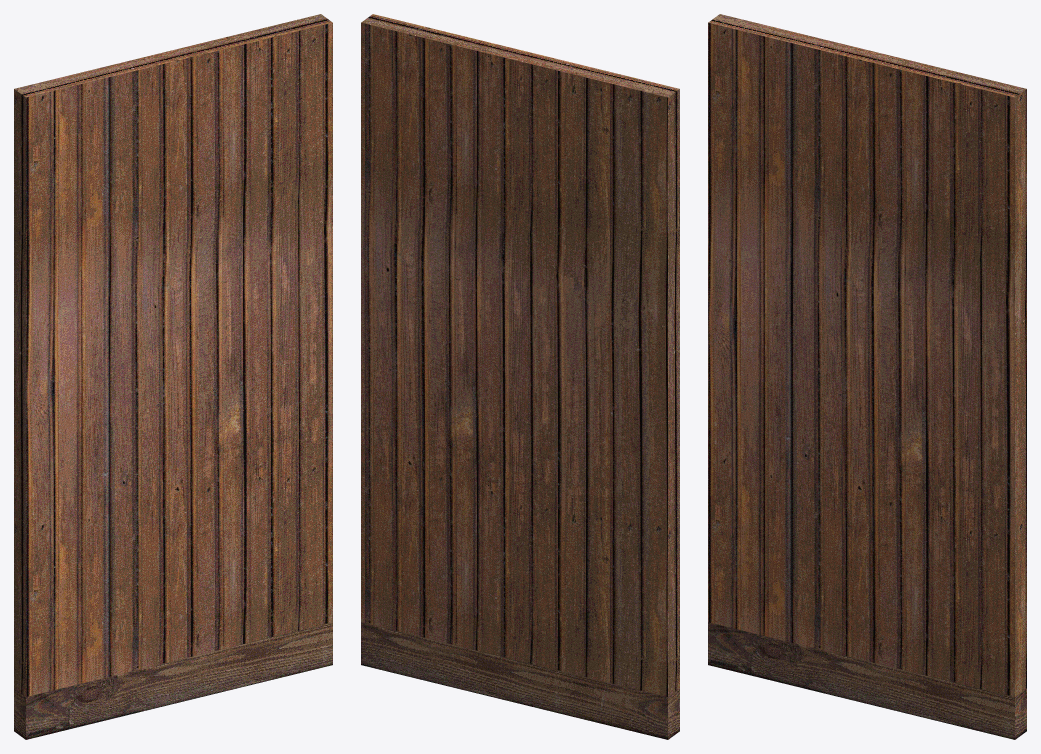
File: wall-int-filler-2.glb
The picture shows the model from 3 angles, left to right: view 1: azimuth 30°, elevation 25°; view 2: azimuth 150°, elevation 25°; view 3: azimuth 330°, elevation 25°; orthographic projection.
Parts seen in each view (by area): view 1: wall-int-filler-2.001; view 2: wall-int-filler-2.001; view 3: wall-int-filler-2.001.
Boxes of the visible parts, bbox=[...] form: wall-int-filler-2.001: bbox=[14, 14, 332, 739]; wall-int-filler-2.001: bbox=[361, 14, 679, 739]; wall-int-filler-2.001: bbox=[708, 14, 1026, 739].
Bounding box in the file's own units: 1.5 × 3 × 0.1.
Materials: 2 (2 with a texture image).
